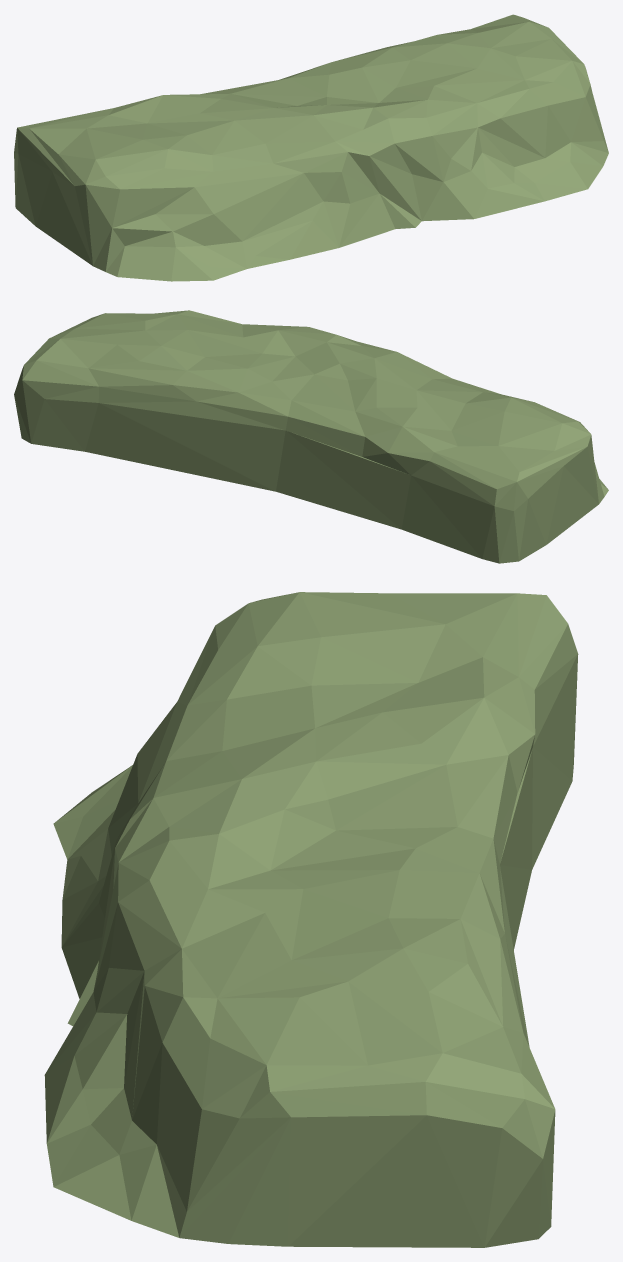
File: Soil-bench4.fbx
3 views of the same model, one above another, from view 1: azimuth 30°, elevation 25°; view 2: azimuth 150°, elevation 25°; view 3: azimuth 270°, elevation 25° (orthographic). The views are drawn at different scales.
Parts seen in each view (by area): view 1: Soil-bench4; view 2: Soil-bench4; view 3: Soil-bench4.
Part boxes in pixels (box(x1,y1,x2,y2)): Soil-bench4: box(14, 14, 608, 281); Soil-bench4: box(14, 310, 608, 563); Soil-bench4: box(44, 592, 578, 1247).
Size of the model in its own units: 361 by 63.24 by 163.
